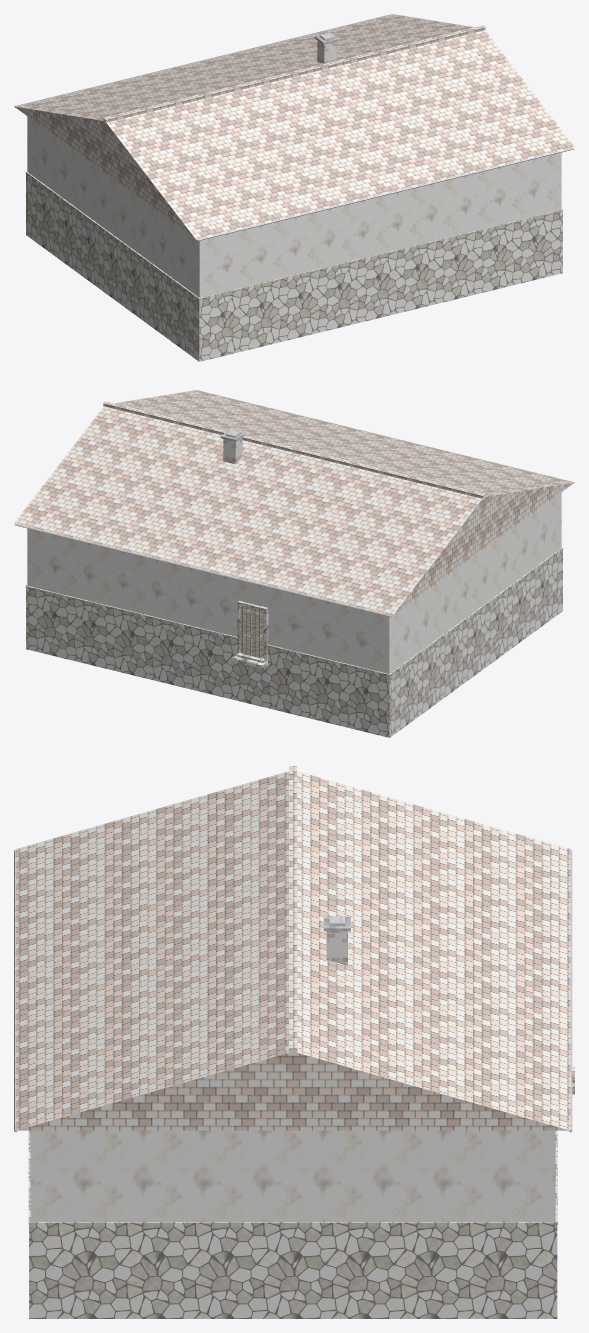
The picture shows the model from 3 angles, top to bottom: view 1: azimuth 30°, elevation 25°; view 2: azimuth 150°, elevation 25°; view 3: azimuth 270°, elevation 25°; orthographic projection. The views are drawn at different scales.
Parts seen in each view (by area): view 1: b1088806822; view 2: b1088806822; view 3: b1088806822.
Boxes of the visible parts, <box> form: b1088806822: <box>14,14,574,361</box>; b1088806822: <box>14,390,574,737</box>; b1088806822: <box>14,766,574,1318</box>.
Bounding box in the file's own units: 15.6 × 7.69 × 13.1.
Materials: 14 (14 with a texture image).
